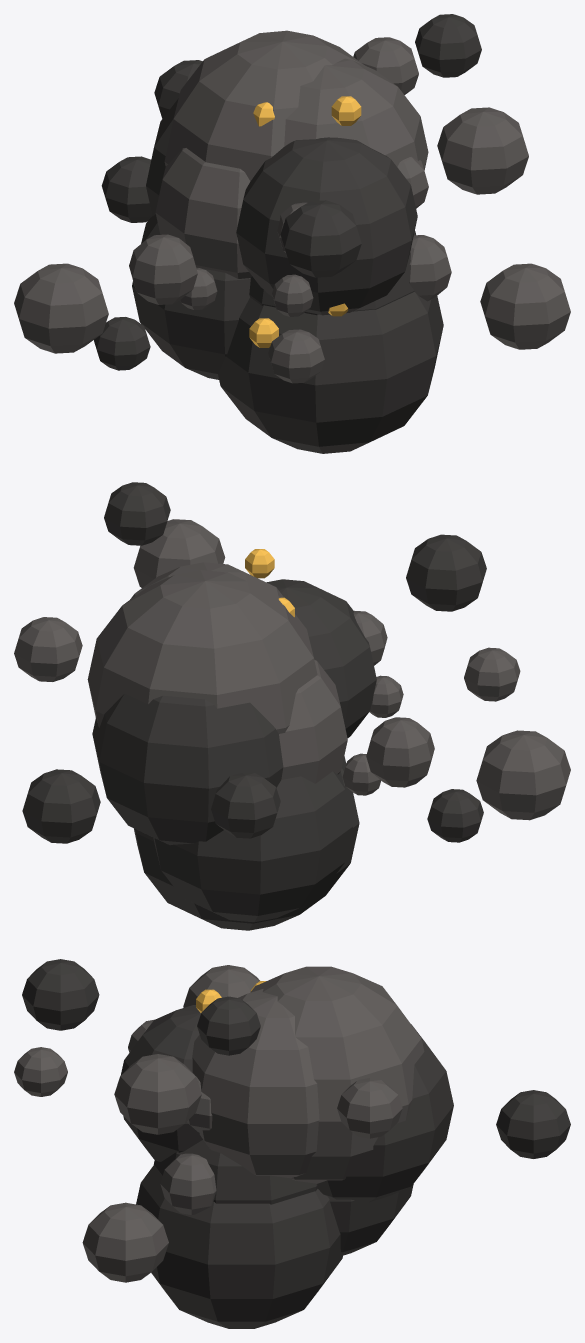
The model's file is fx.flak-burst.glb.
3 renders of one model, top to bottom at view 1: azimuth 30°, elevation 25°; view 2: azimuth 150°, elevation 25°; view 3: azimuth 270°, elevation 25°, orthographic. The views are drawn at different scales.
Visible parts, largest first — view 1: puff.core.1, puff.core.2, puff.core.0, puff.core.6, puff.core.3, puff.core.7, tendril.8, tendril.4, tendril.6, tendril.9, tendril.mid.8, tendril.3 (+13 smaller); view 2: puff.core.0, puff.core.8, puff.core.7, puff.core.2, tendril.8, puff.core.3, tendril.9, tendril.7, tendril.mid.8, tendril.1, puff.core.1, tendril.4 (+9 smaller); view 3: puff.core.1, puff.core.0, puff.core.6, puff.core.8, tendril.4, tendril.6, puff.core.2, tendril.9, tendril.7, puff.core.4, tendril.2, puff.core.7 (+5 smaller).
Boxes of the visible parts, box(x1,y1,x2,y2) form: puff.core.1: box(218, 292, 443, 453); puff.core.2: box(236, 137, 417, 315); puff.core.0: box(164, 30, 364, 180); puff.core.6: box(284, 58, 428, 170); puff.core.3: box(155, 148, 251, 278); puff.core.7: box(132, 214, 250, 379); tendril.8: box(14, 263, 108, 353); tendril.4: box(437, 107, 528, 194); tendril.6: box(480, 263, 570, 349); tendril.9: box(280, 200, 361, 277); tendril.mid.8: box(129, 234, 197, 304); tendril.3: box(415, 14, 481, 77); puff.core.0: box(87, 570, 317, 733); puff.core.8: box(92, 693, 283, 845); puff.core.7: box(153, 771, 352, 922); puff.core.2: box(266, 579, 376, 737); tendril.8: box(476, 730, 570, 820); puff.core.3: box(279, 660, 347, 783); tendril.9: box(406, 534, 486, 611); tendril.7: box(22, 769, 100, 843); tendril.mid.8: box(366, 717, 434, 787); tendril.1: box(211, 772, 280, 838); puff.core.1: box(134, 756, 359, 930); tendril.4: box(133, 519, 225, 587); puff.core.1: box(136, 1165, 343, 1328); puff.core.0: box(250, 966, 424, 1183); puff.core.6: box(192, 989, 319, 1178); puff.core.8: box(317, 1024, 453, 1202); tendril.4: box(114, 1054, 201, 1134); tendril.6: box(82, 1202, 168, 1282); puff.core.2: box(120, 1005, 202, 1161); tendril.9: box(22, 959, 99, 1030); tendril.7: box(496, 1090, 570, 1158); puff.core.4: box(153, 1139, 317, 1204); tendril.2: box(337, 1078, 402, 1138); puff.core.7: box(328, 1184, 413, 1255).
Bounding box in the file's own units: 1.81 × 1.42 × 1.93.
